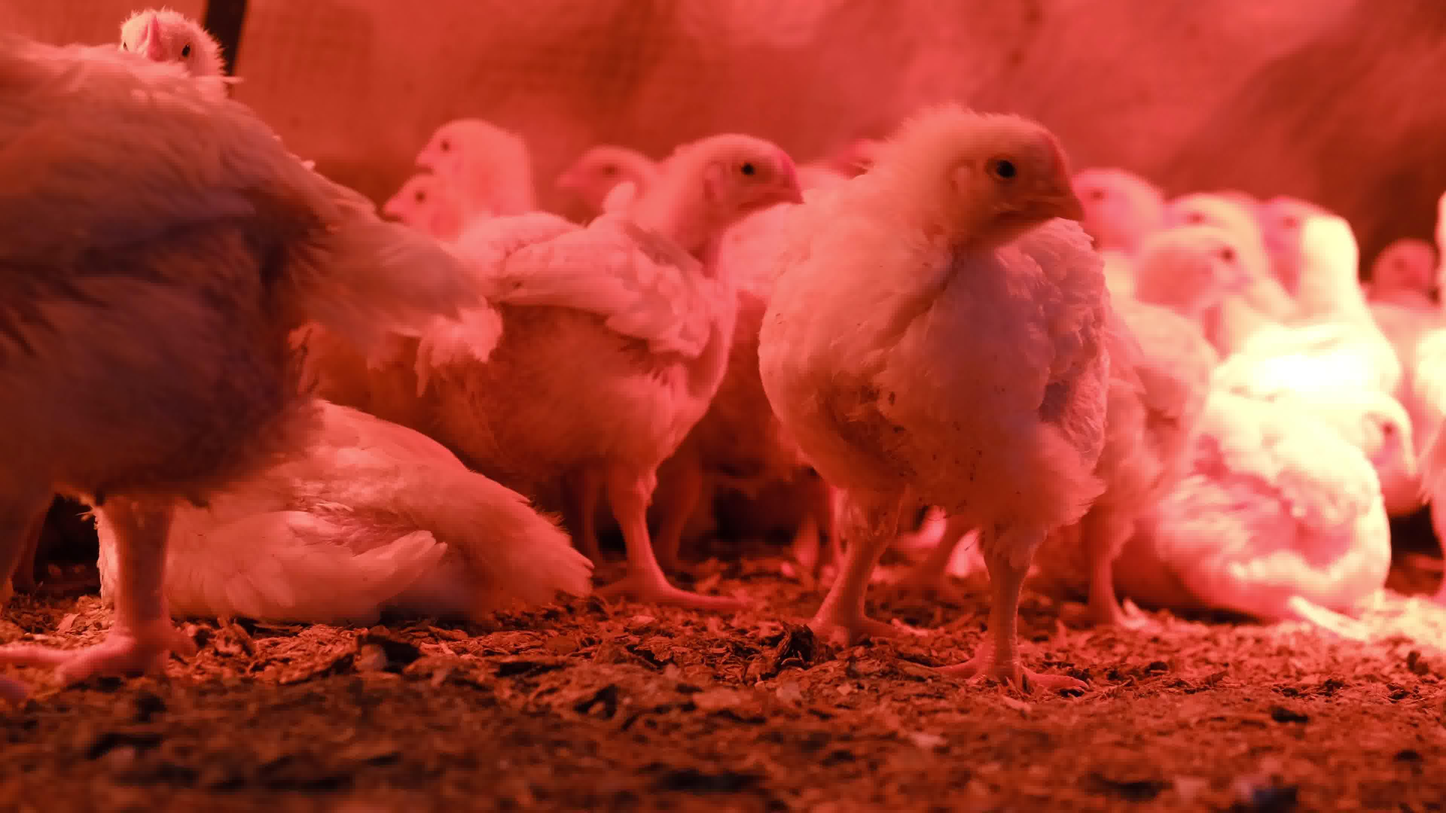AbNormal: (97, 398, 595, 623), (1117, 394, 1428, 619)
Normal: (0, 30, 503, 694), (757, 113, 1117, 705), (408, 128, 810, 611), (1081, 230, 1252, 629), (1263, 217, 1394, 389), (423, 123, 539, 259), (116, 6, 224, 106), (556, 142, 658, 219), (1372, 234, 1446, 339), (1081, 166, 1161, 252), (373, 174, 462, 243), (1162, 196, 1262, 231), (1269, 189, 1314, 226)
